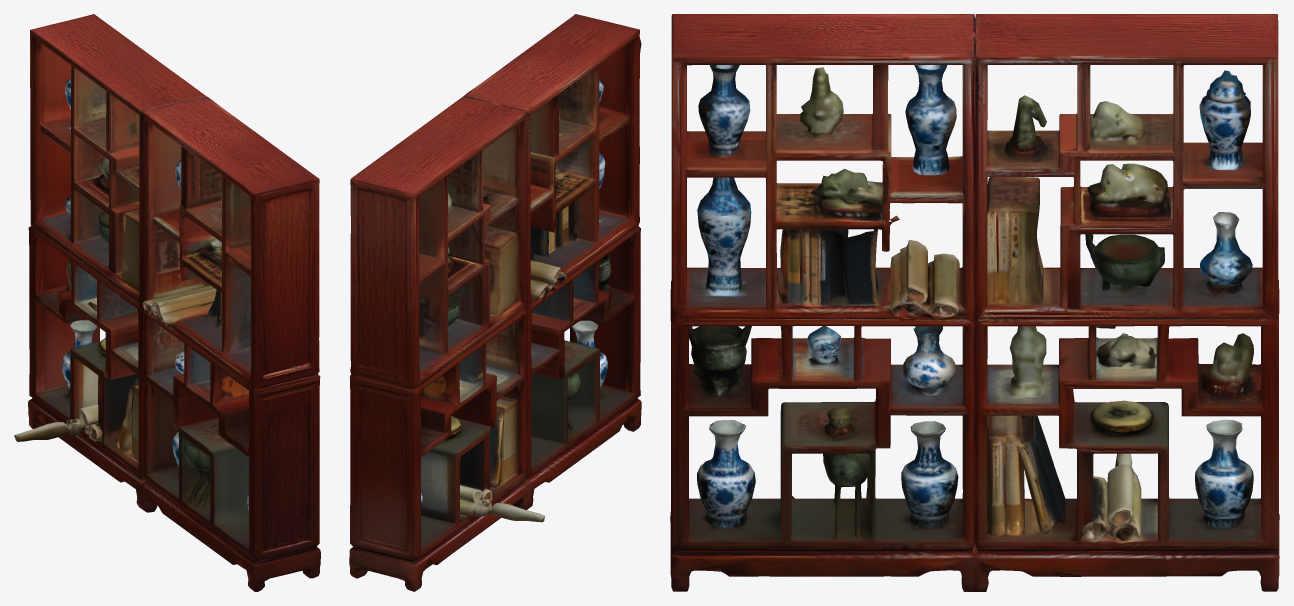
File: f_duobaoge.glb
The picture shows the model from 3 angles, left to right: view 1: azimuth 30°, elevation 25°; view 2: azimuth 150°, elevation 25°; view 3: azimuth 270°, elevation 25°; orthographic projection. The views are drawn at different scales.
Visible parts, largest first — view 1: tripo_node_19bbdfc5-08b0-4f61-a425-db512c744aaa; view 2: tripo_node_19bbdfc5-08b0-4f61-a425-db512c744aaa; view 3: tripo_node_19bbdfc5-08b0-4f61-a425-db512c744aaa.
Part boxes in pixels (x1=…): tripo_node_19bbdfc5-08b0-4f61-a425-db512c744aaa: x1=14, y1=14, x2=320, y2=591; tripo_node_19bbdfc5-08b0-4f61-a425-db512c744aaa: x1=349, y1=14, x2=641, y2=591; tripo_node_19bbdfc5-08b0-4f61-a425-db512c744aaa: x1=670, y1=14, x2=1279, y2=591.
Size of the model in its own units: 0.3567 by 0.9758 by 0.9999.
Materials: 1 (1 with a texture image).
